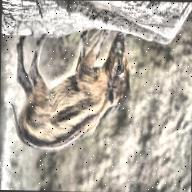boar: (9, 27, 131, 153)
